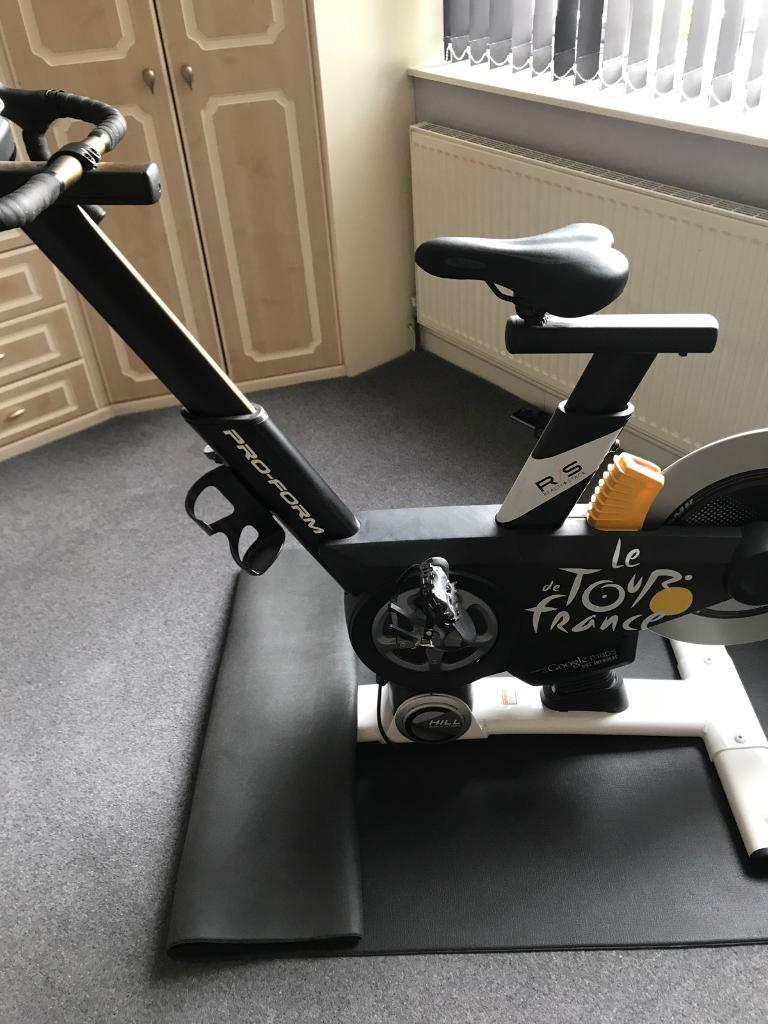gym_bike: (1, 93, 764, 875)
